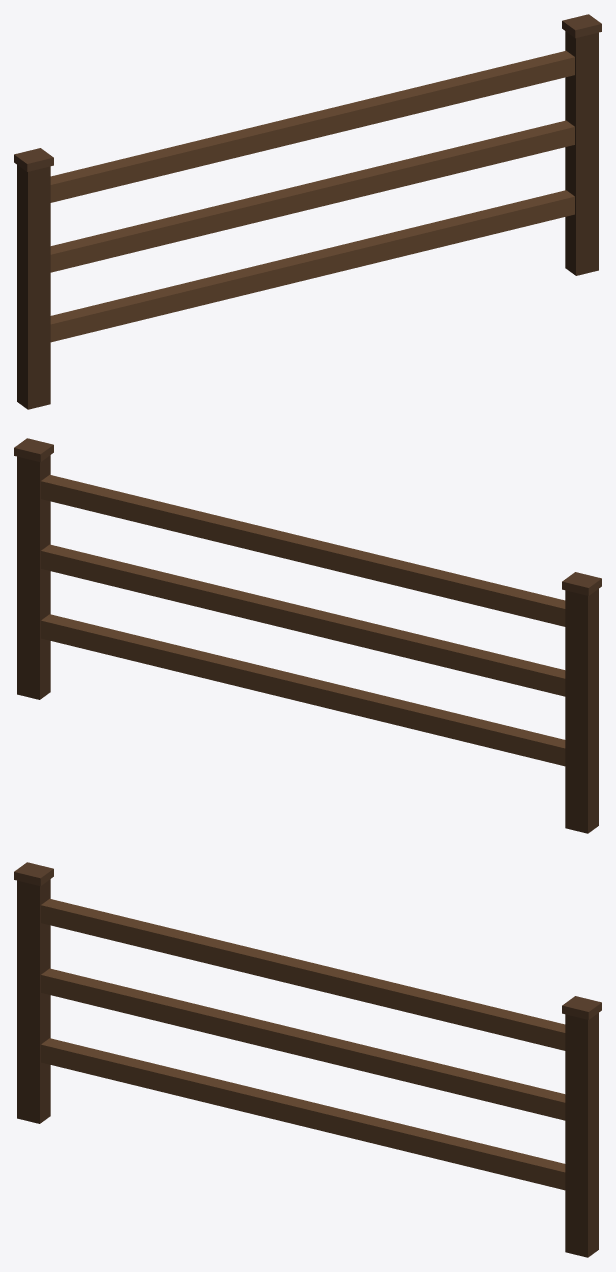
Rendered from prop_fence_segment.glb.
3 views of the same model, one above another, from view 1: azimuth 30°, elevation 25°; view 2: azimuth 150°, elevation 25°; view 3: azimuth 330°, elevation 25° (orthographic).
Parts seen in each view (by area): view 1: Fence; view 2: Fence; view 3: Fence.
Boxes of the visible parts, x1=… form: Fence: x1=14, y1=14, x2=601, y2=409; Fence: x1=14, y1=438, x2=601, y2=833; Fence: x1=14, y1=862, x2=601, y2=1257.
Size of the model in its own units: 3.02 by 1.24 by 0.12.
